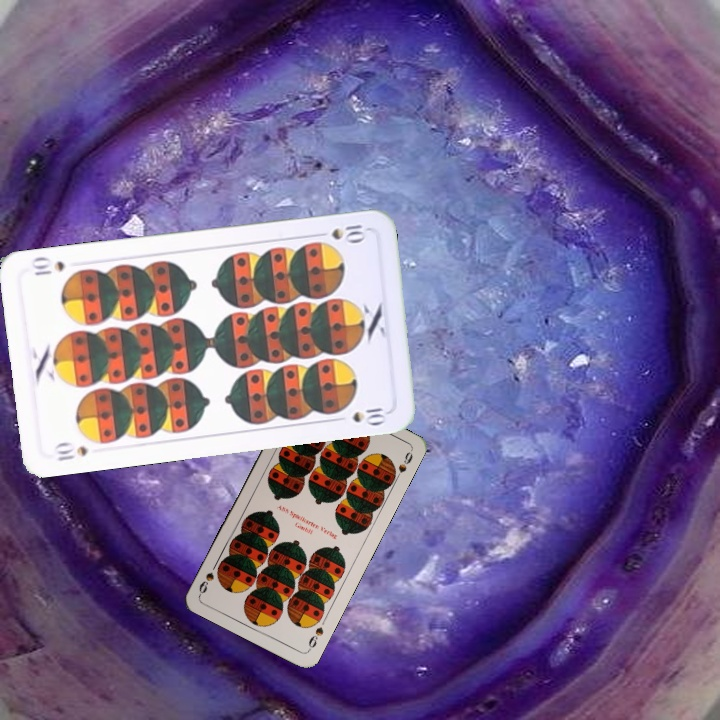S10: (311, 220, 370, 244), (50, 439, 90, 464)
S9: (304, 623, 326, 654)
